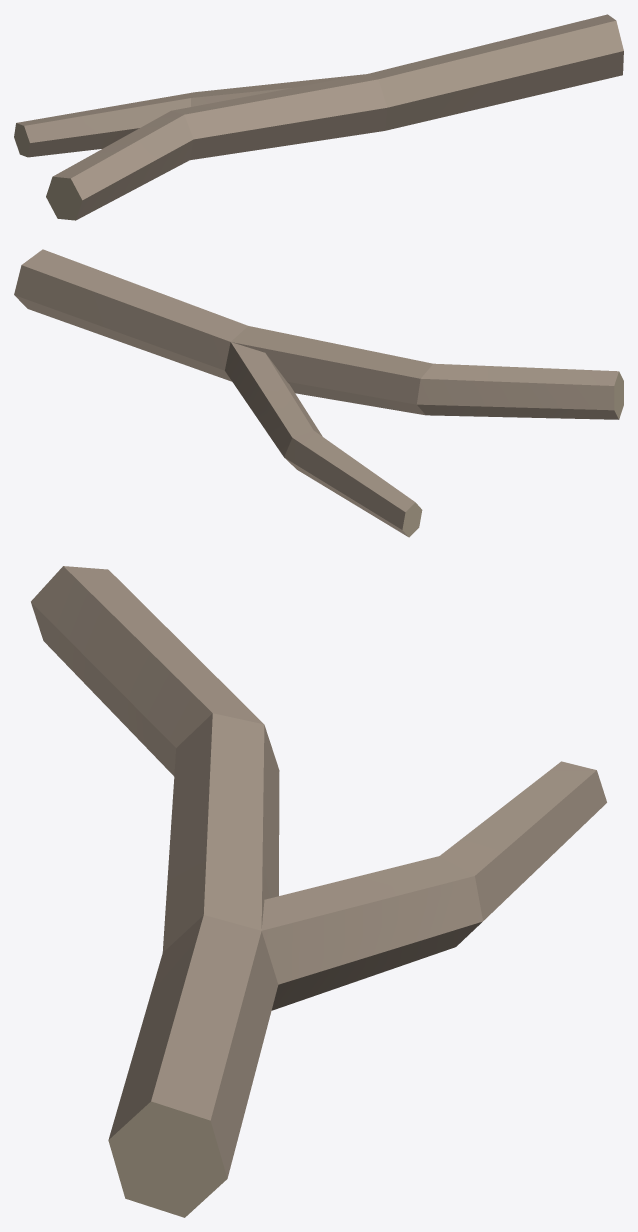
Rendered from Prop_Branch_1.glb.
The picture shows the model from 3 angles, top to bottom: view 1: azimuth 30°, elevation 25°; view 2: azimuth 150°, elevation 25°; view 3: azimuth 270°, elevation 25°; orthographic projection. The views are drawn at different scales.
Visible parts, largest first — view 1: Prop_Branch_1_Merged; view 2: Prop_Branch_1_Merged; view 3: Prop_Branch_1_Merged.
Boxes of the visible parts, x1,y1,x2,y2 form: Prop_Branch_1_Merged: (14, 14, 623, 220); Prop_Branch_1_Merged: (14, 249, 623, 537); Prop_Branch_1_Merged: (31, 566, 606, 1217).
Bounding box in the file's own units: 1.89 × 0.2955 × 0.8225.
